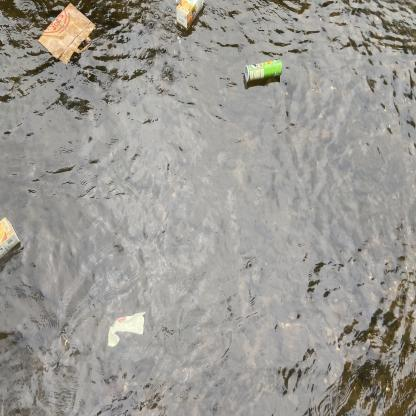trash: (36, 0, 98, 69), (106, 306, 147, 350), (239, 58, 286, 84), (172, 0, 206, 34), (0, 214, 23, 264)
